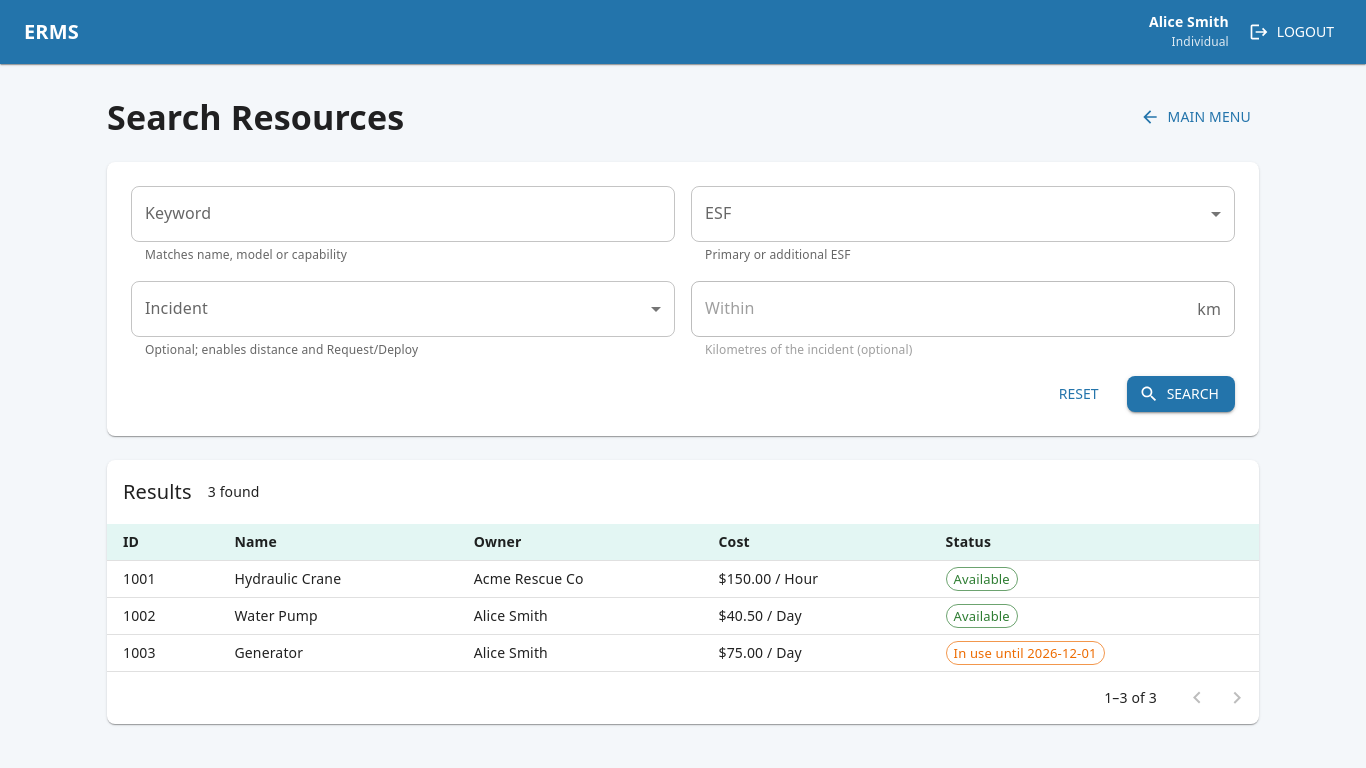
Test case: SearchResourcesPage › sends keyword, ESF, incident and distance filters
This screenshot has width=1366, height=768.
Expected: the column heading "Hydraulic Crane" is shown, 218,561 -> 458,598
Type "crane" into the field labelled "Keyword" at (403, 214), box 131,186 -> 675,242
Click the 1st dropdown named "esf" at (963, 214), box 691,186 -> 1235,242
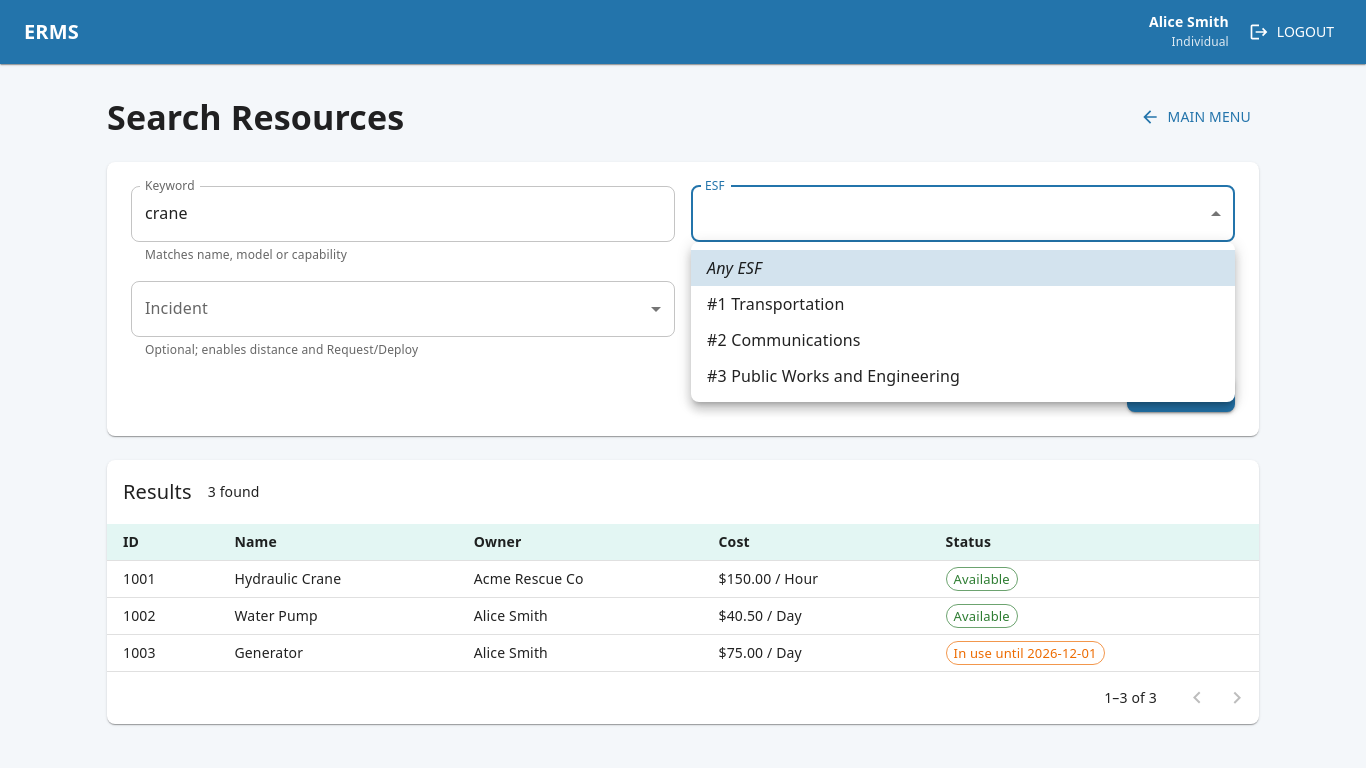
Click the option "#3 Public Works and Engineering" at (834, 376), box 707,365 -> 960,387
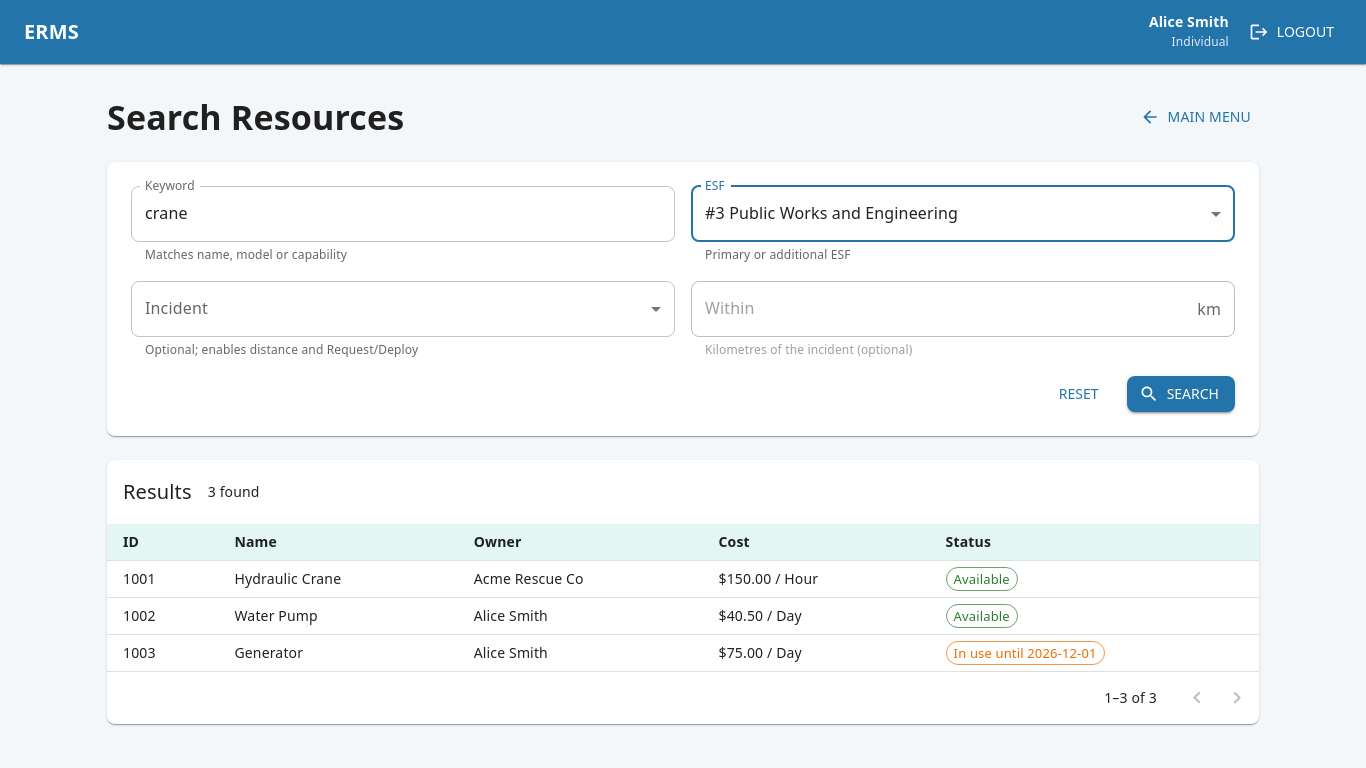
Expected: the field labelled "Within" is disabled, 691,281 -> 1189,337
Click the dropdown named "incident" at (403, 309), box 131,281 -> 675,337
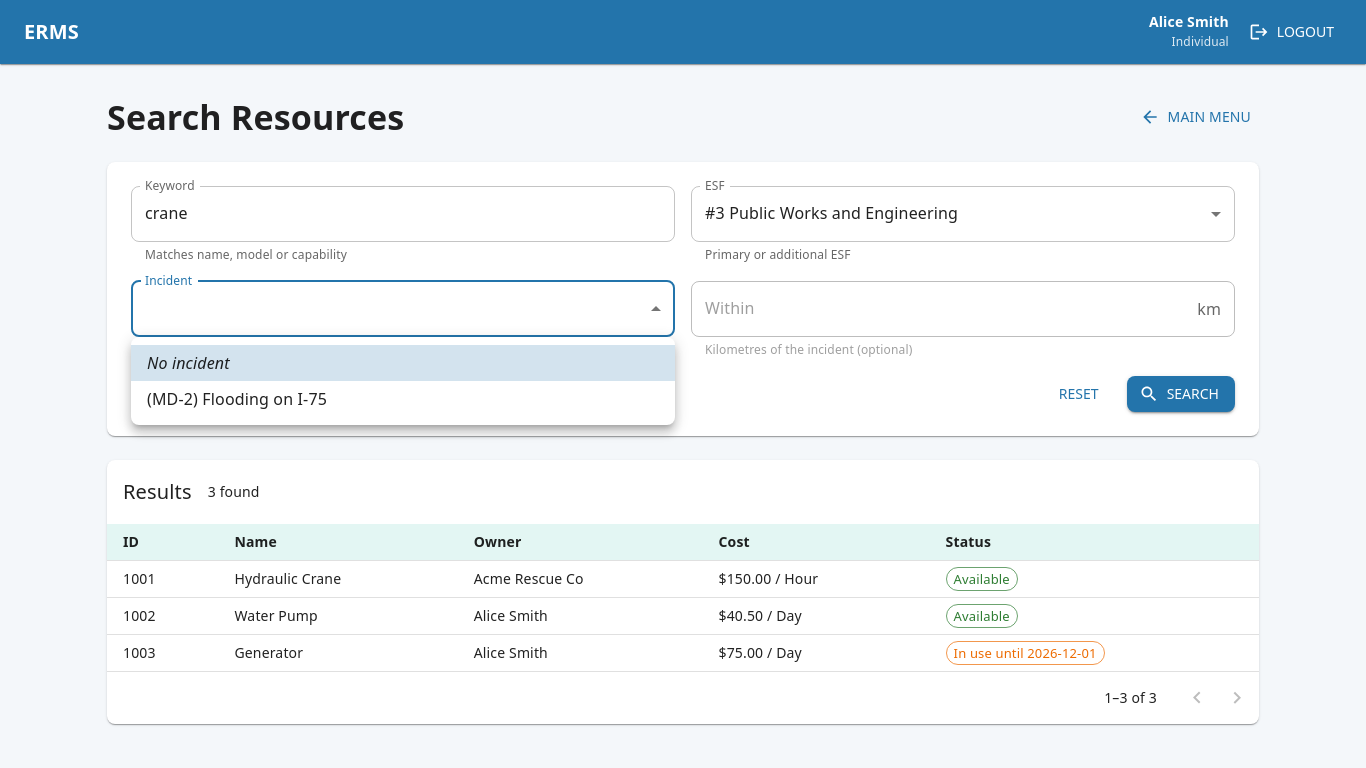
Click the option "(MD-2) Flooding on I-75" at (237, 399), box 147,388 -> 327,410
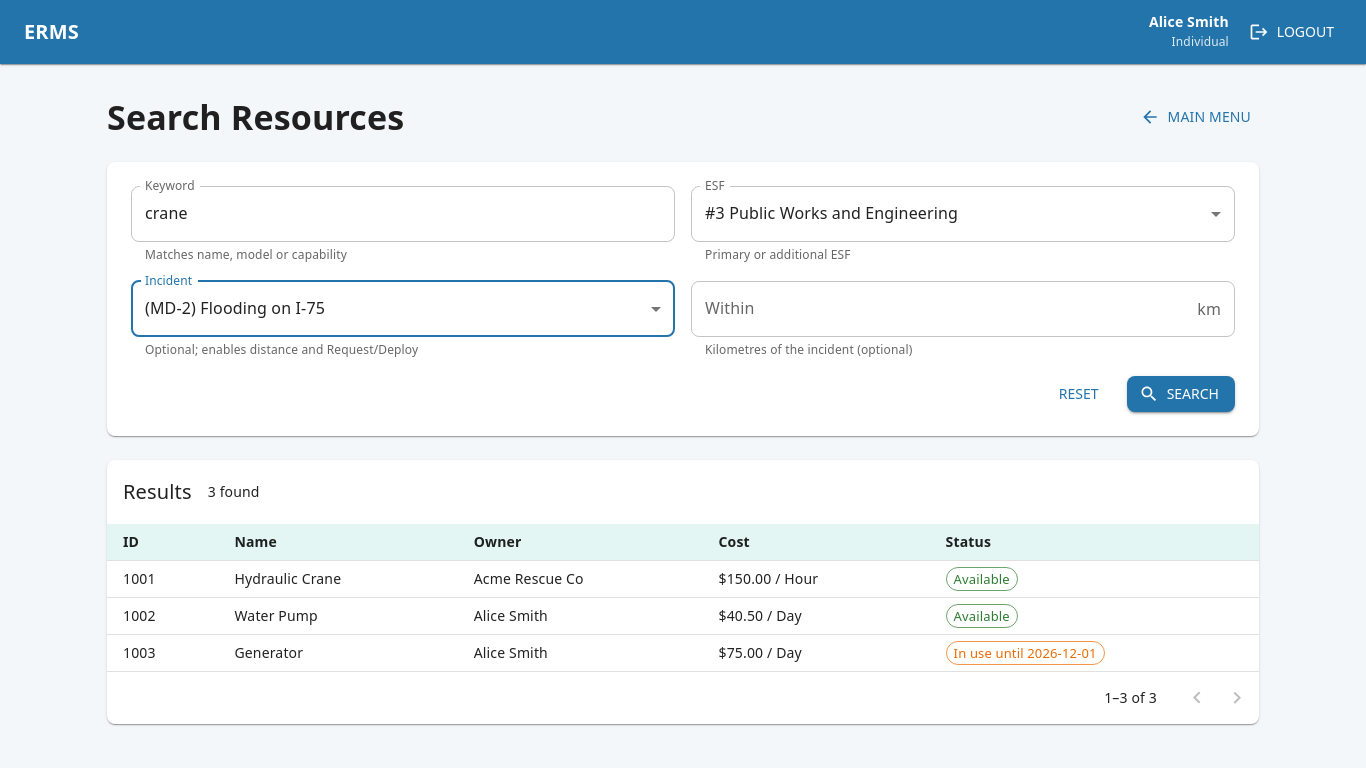
Type "50" into the field labelled "Within" at (940, 309), box 691,281 -> 1189,337
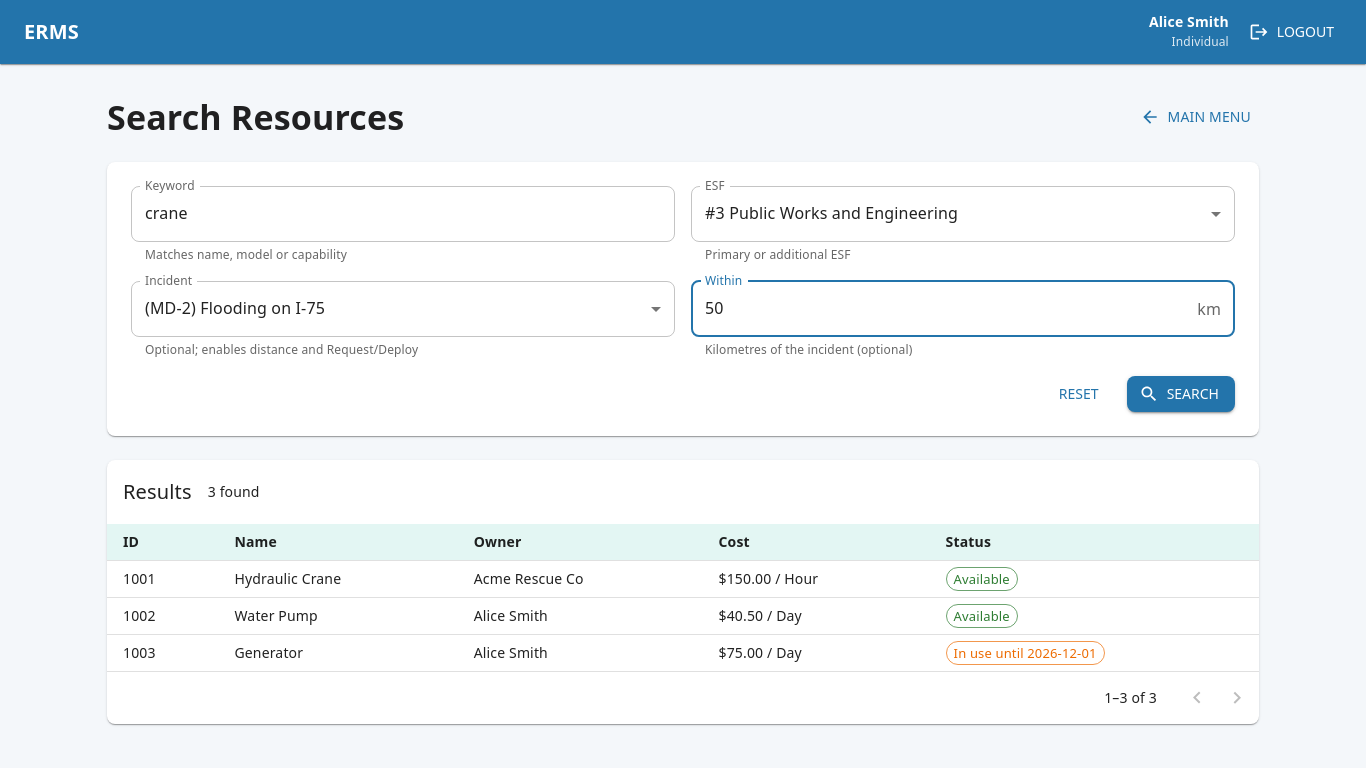
Click the button "Search" at (1181, 394), box 1127,376 -> 1235,412
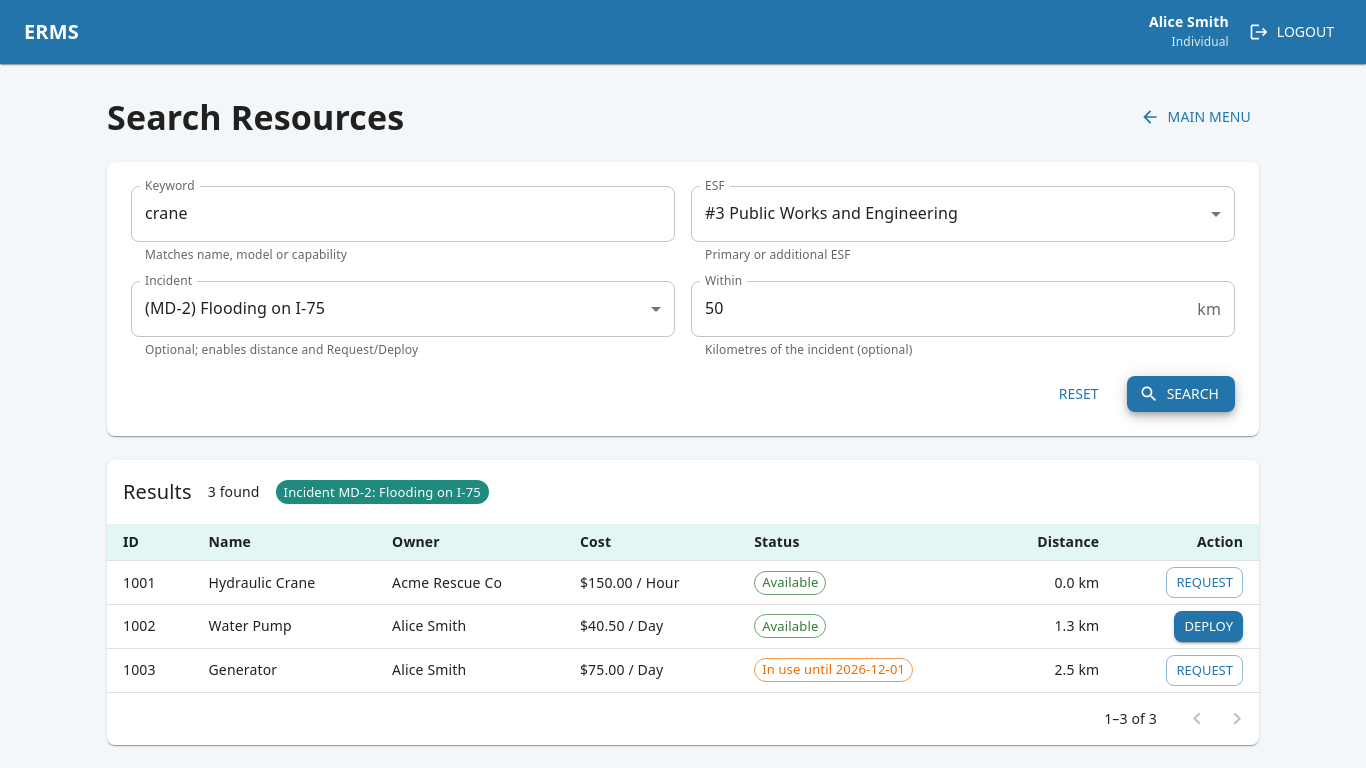
Expected: the column heading "Distance" is shown, 991,524 -> 1115,561
Expected: the text "0.0 km" is shown, 991,561 -> 1115,605
Expected: the text "1.3 km" is shown, 991,604 -> 1115,648
